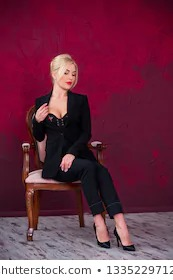S_W_pants: (46, 153, 130, 223)
